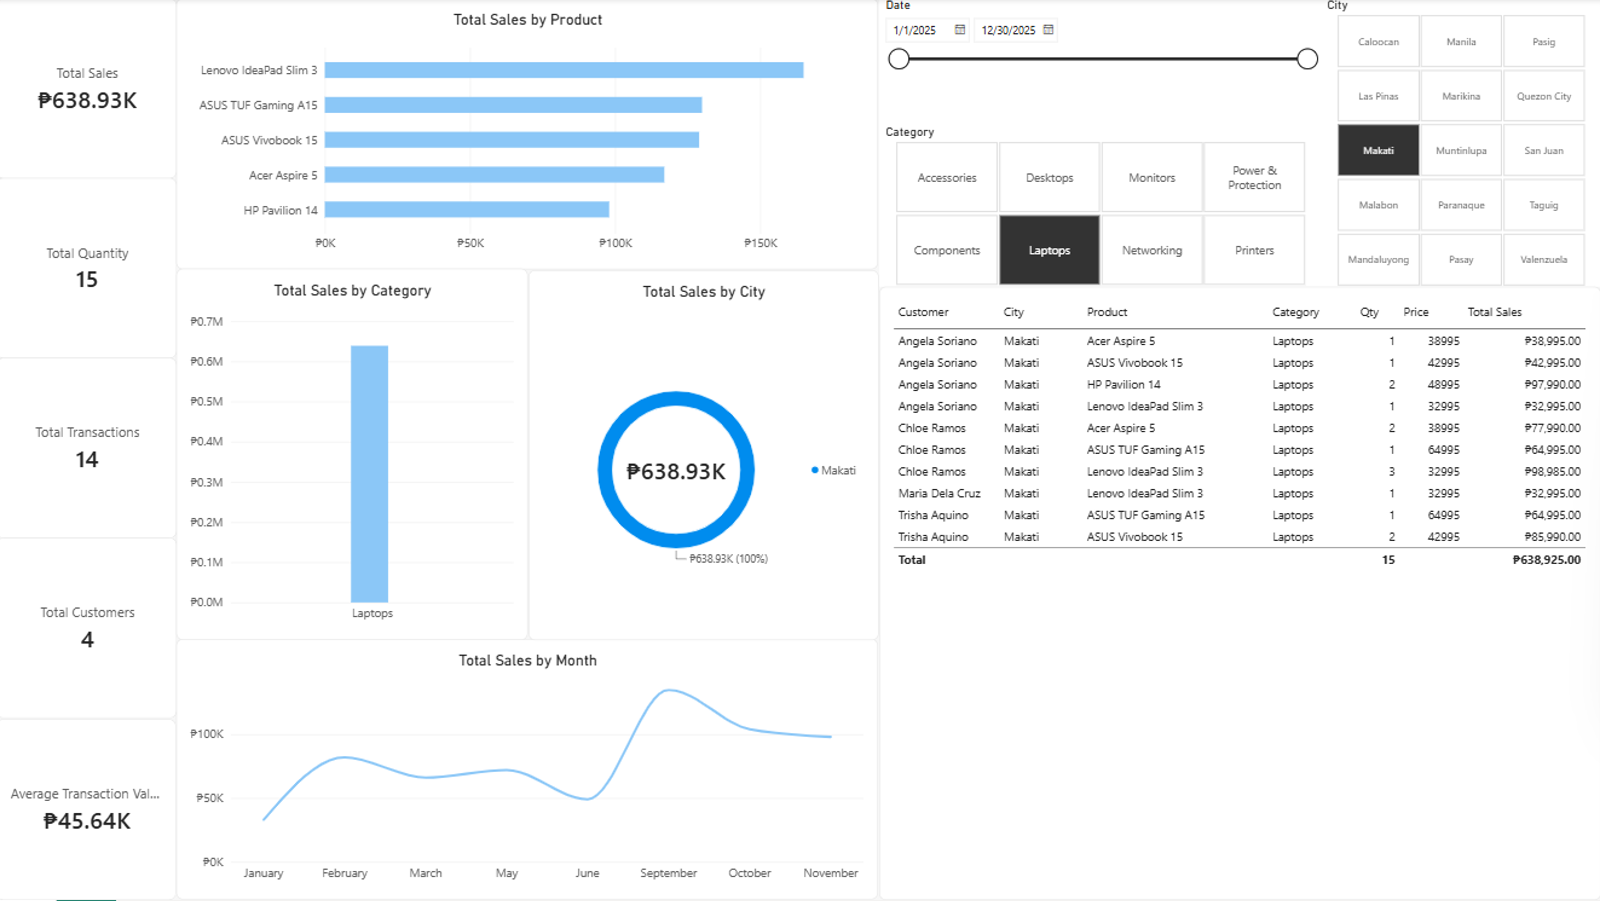

The page's visual inventory and layout, read from the dashboard file:
{"tool":"powerbi","page":{"name":"Report","canvas":[1920,1080],"ordinal":0},"visuals":[{"type":"cardVisual","fields":{"Data":["Sales.Total Sales"]},"box":[0,0,216,216],"z":0},{"type":"cardVisual","fields":{"Data":["Sales.Total Quantity"]},"box":[0,215.6,216,216],"z":1},{"type":"cardVisual","fields":{"Data":["Sales.Total Transactions"]},"box":[0,431.3,216,216],"z":2},{"type":"cardVisual","fields":{"Data":["Sales.Total Customers"]},"box":[0,646.9,216,216],"z":3},{"type":"cardVisual","fields":{"Data":["Sales.Average Transaction Value"]},"box":[0,862.5,215.6,217.1],"z":4},{"type":"slicer","fields":{"Values":["Customers.City"]},"box":[1584.7,0,335.3,345.6],"z":5},{"type":"slicer","fields":{"Values":["Sales.Date"]},"box":[1056,0,528.7,152.1],"z":6},{"type":"slicer","fields":{"Values":["Products.Category"]},"box":[1056,152.1,528.7,193.5],"z":7},{"type":"tableEx","fields":{"Values":["Customers.Customer","Customers.City","Products.Product","Products.Category","Sum(Sales.Quantity)","Products.Price","Sales.Total Sales"]},"box":[1056,345.6,864,734],"z":8},{"type":"clusteredBarChart","title":"Total Sales by Product","fields":{"Category":["Products.Product"],"Y":["Sales.Total Sales"]},"box":[215.6,0,840.4,324.9],"z":9},{"type":"lineChart","title":"Total Sales by Month","fields":{"Category":["Sales.Date.Variation.Date Hierarchy.Quarter","Sales.Date.Variation.Date Hierarchy.Month","Sales.Date.Variation.Date Hierarchy.Day"],"Y":["Sales.Total Sales"]},"box":[215.6,768,840.4,311.6],"z":10},{"type":"clusteredColumnChart","title":"Total Sales by Category","fields":{"Category":["Products.Category"],"Y":["Sales.Total Sales"]},"box":[215.6,323.4,420.9,444.6],"z":11},{"type":"donutChart","title":"Total Sales by City","fields":{"Category":["Customers.City"],"Y":["Sales.Total Sales"]},"box":[637,325,419,443],"z":12}]}

Visuals, with their boxes in screenshot pixels (x1, y1, x2, y2), scaled from the page's 1920x1080 canvas onto the 1600x901 screenshot:
cardVisual - Sales.Total Sales: [0,0,180,180]
cardVisual - Sales.Total Quantity: [0,180,180,360]
cardVisual - Sales.Total Transactions: [0,360,180,540]
cardVisual - Sales.Total Customers: [0,540,180,720]
cardVisual - Sales.Average Transaction Value: [0,720,180,900]
slicer - Customers.City: [1321,0,1599,288]
slicer - Sales.Date: [880,0,1321,127]
slicer - Products.Category: [880,127,1321,288]
tableEx - Customers.Customer x Customers.City: [880,288,1599,900]
"Total Sales by Product" clusteredBarChart: [180,0,880,271]
"Total Sales by Month" lineChart: [180,641,880,900]
"Total Sales by Category" clusteredColumnChart: [180,270,530,641]
"Total Sales by City" donutChart: [531,271,880,641]
